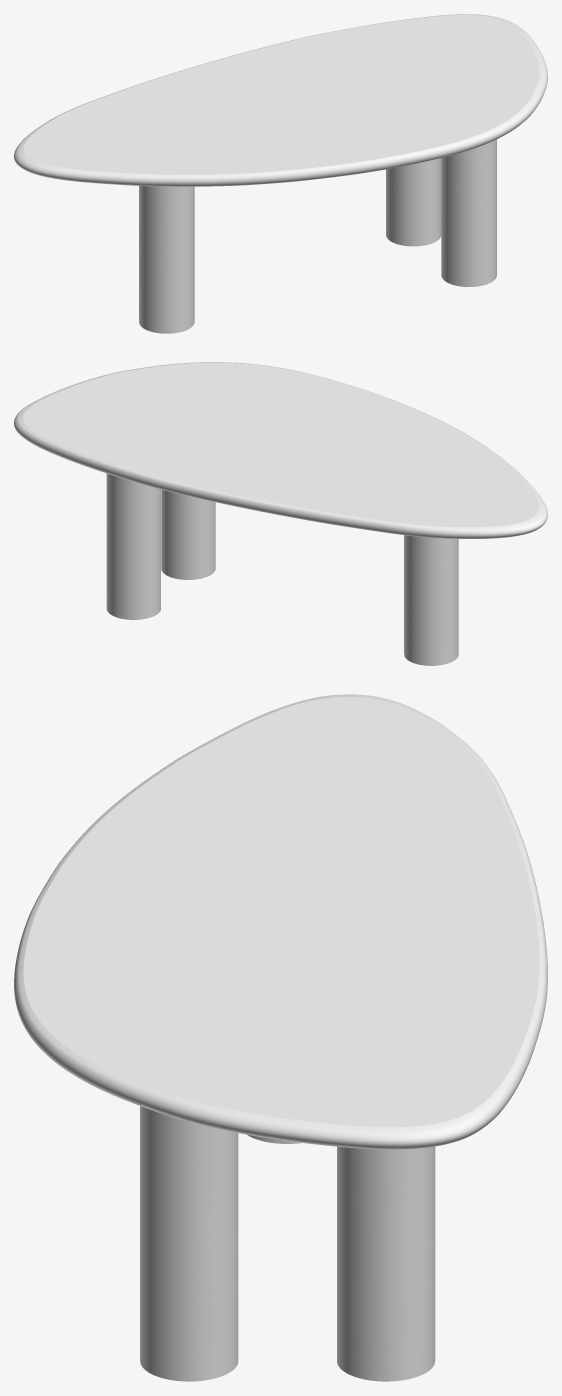
File: purewhite_pebbletop_round_cylinder.glb
3 renders of one model, top to bottom at view 1: azimuth 30°, elevation 25°; view 2: azimuth 150°, elevation 25°; view 3: azimuth 270°, elevation 25°, orthographic. The views are drawn at different scales.
Parts seen in each view (by area): view 1: round_pebbletop, cylinder; view 2: round_pebbletop, cylinder; view 3: round_pebbletop, cylinder.
Boxes of the visible parts, bbox=[...] form: round_pebbletop: bbox=[14, 14, 547, 186]; cylinder: bbox=[139, 139, 496, 333]; round_pebbletop: bbox=[14, 362, 547, 538]; cylinder: bbox=[106, 473, 458, 665]; round_pebbletop: bbox=[14, 694, 547, 1149]; cylinder: bbox=[140, 1106, 435, 1381].
Size of the model in its own units: 7.5 by 2.53 by 3.8.
1 material, 1 textured.
